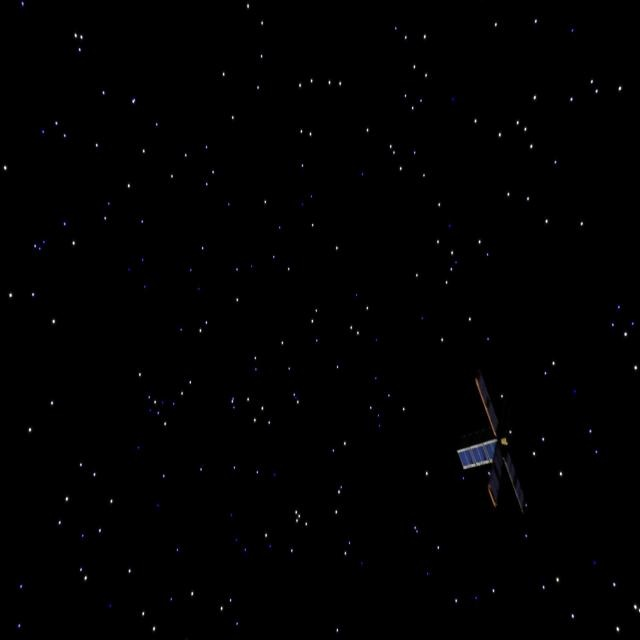satellite: (440, 378, 538, 529)
